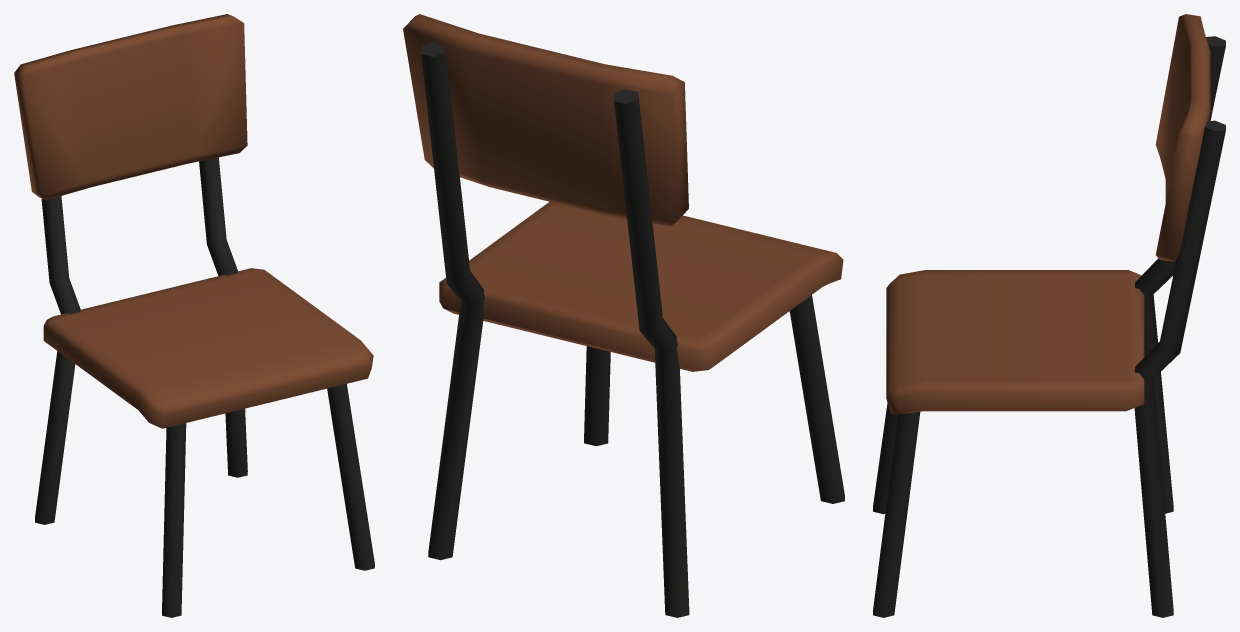
The model's file is 17_furniture_chair.FBX.
The picture shows the model from 3 angles, left to right: view 1: azimuth 30°, elevation 25°; view 2: azimuth 150°, elevation 25°; view 3: azimuth 270°, elevation 25°; orthographic projection. The views are drawn at different scales.
Visible parts, largest first — view 1: furniture_chair; view 2: furniture_chair; view 3: furniture_chair.
Part boxes in pixels (x1=…): furniture_chair: x1=14, y1=14, x2=374, y2=617; furniture_chair: x1=403, y1=14, x2=844, y2=617; furniture_chair: x1=873, y1=14, x2=1225, y2=617.
Size of the model in its own units: 34.62 by 66.44 by 43.26.
